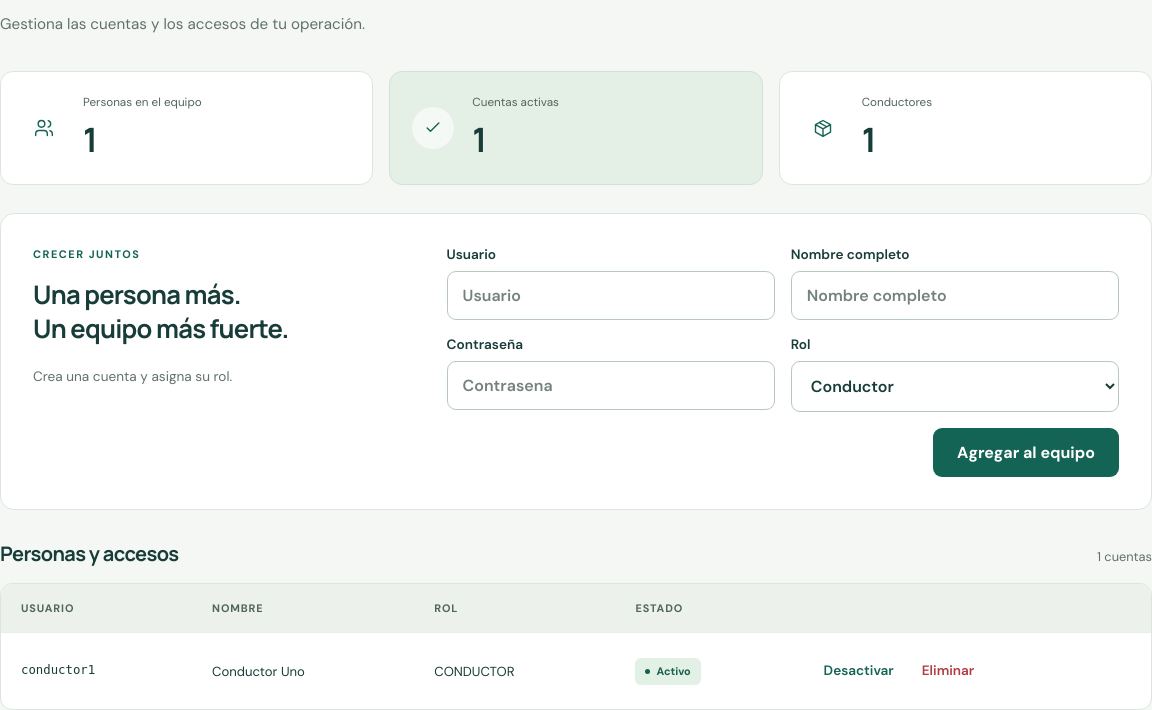
AdminDriversPage › muestra un error si falla desactivar un usuario, sin romper la pagina
This screenshot has width=1152, height=710.
(page scrolled)
Check: the text "conductor1" is shown, box [1,632,192,709]
What coordinates should you click on to do the following:
click the button "Desactivar"
I would click on:
 (859, 671)
Its box is [812,649,906,693].
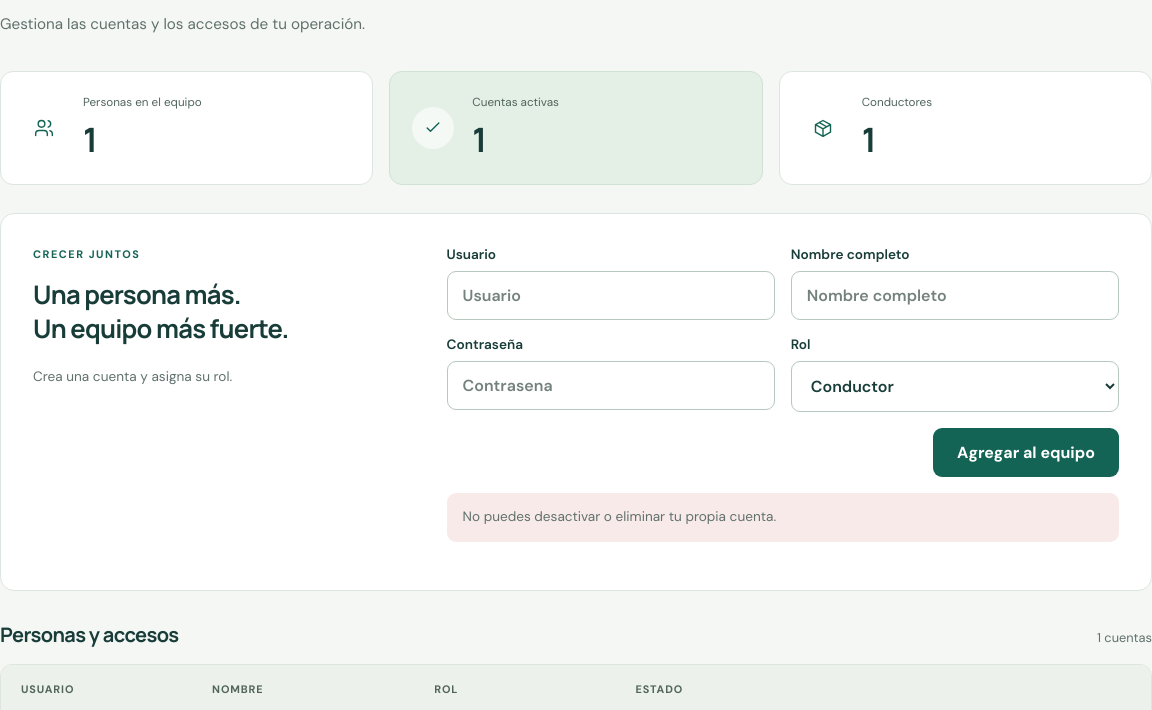
Check: the text "No puedes desactivar o eliminar tu propia cuenta." is shown, box [447,493,1119,542]
